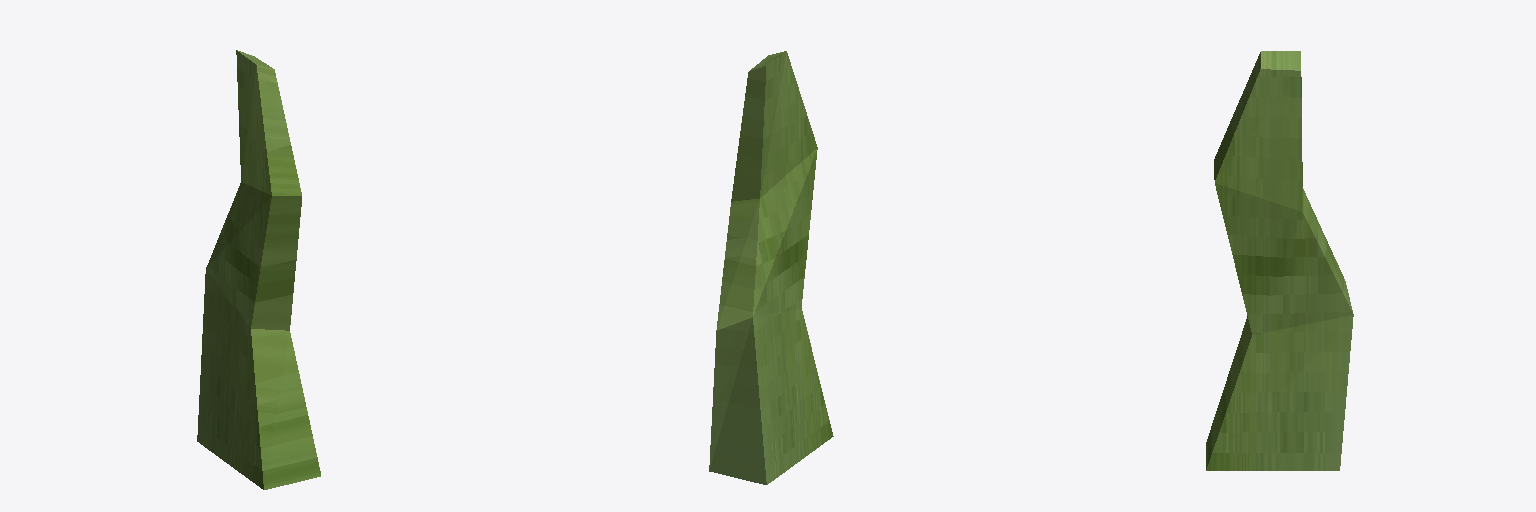
3 views of the same model, side by side, from view 1: azimuth 30°, elevation 25°; view 2: azimuth 150°, elevation 25°; view 3: azimuth 270°, elevation 25° (orthographic).
Parts seen in each view (by area): view 1: pCube1; view 2: pCube1; view 3: pCube1.
Boxes of the visible parts, <box> form: pCube1: <box>197,50,320,489</box>; pCube1: <box>709,51,833,484</box>; pCube1: <box>1206,51,1353,470</box>.
Size of the model in its own units: 0.1011 by 0.6728 by 0.2242.
1 materials, 1 textured.